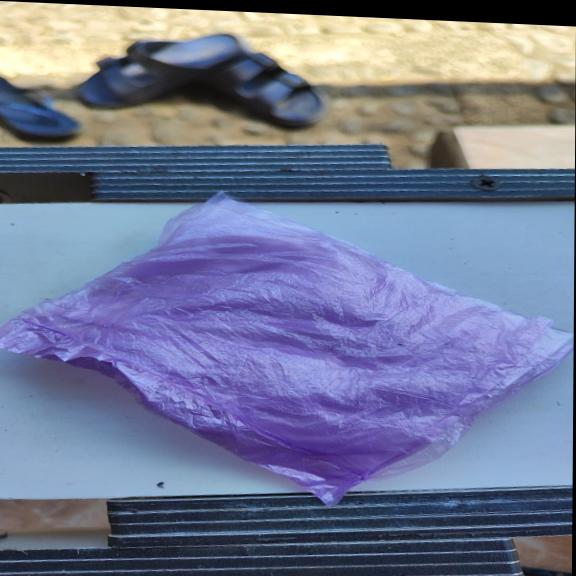Plastik: (0, 180, 571, 517)
